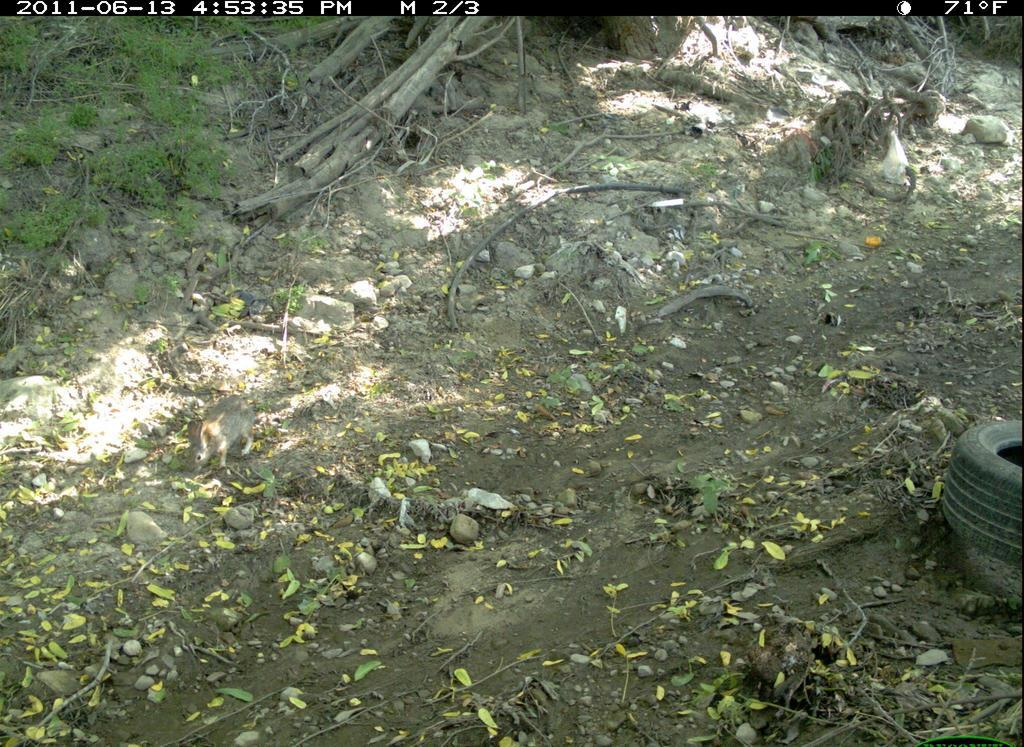rabbit: (184, 391, 269, 486)
